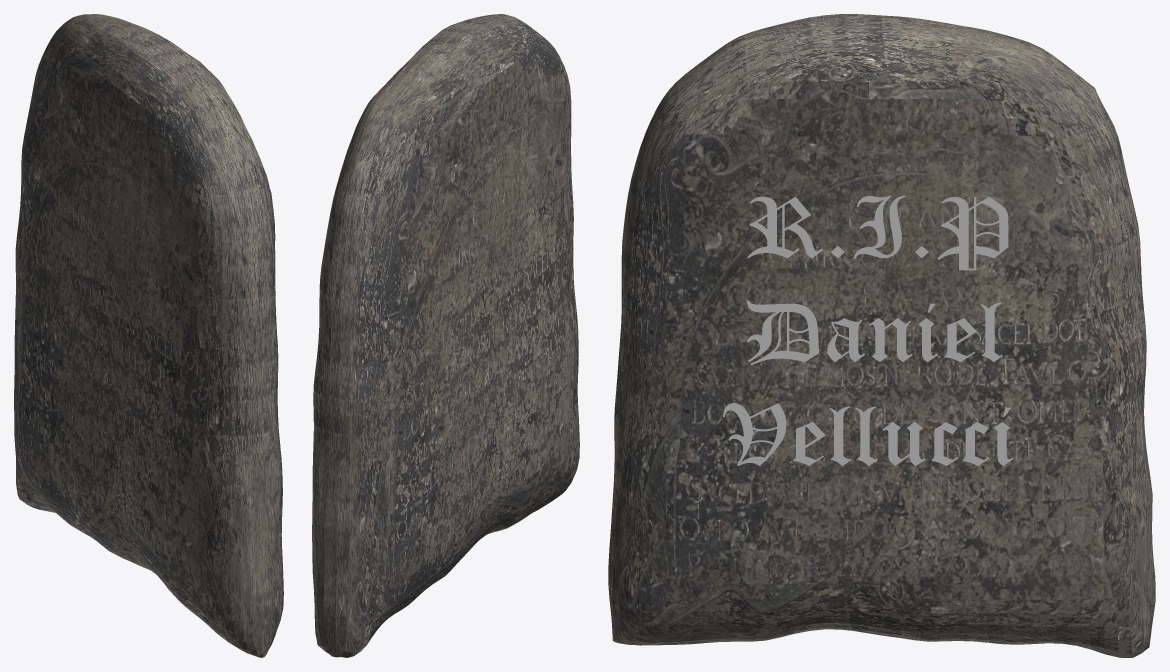
Rendered from tomb_stone_3.fbx.
The picture shows the model from 3 angles, left to right: view 1: azimuth 30°, elevation 25°; view 2: azimuth 150°, elevation 25°; view 3: azimuth 270°, elevation 25°; orthographic projection. The views are drawn at different scales.
Visible parts, largest first — view 1: Cube; view 2: Cube; view 3: Cube, Text.
Boxes of the visible parts, box(x1,y1,x2,y2) form: Cube: box(14, 14, 283, 657); Cube: box(312, 14, 579, 657); Cube: box(608, 14, 1155, 657); Text: box(723, 195, 1013, 465).
Bounding box in the file's own units: 29.93 × 182 × 143.
Materials: 2 (1 with a texture image).
